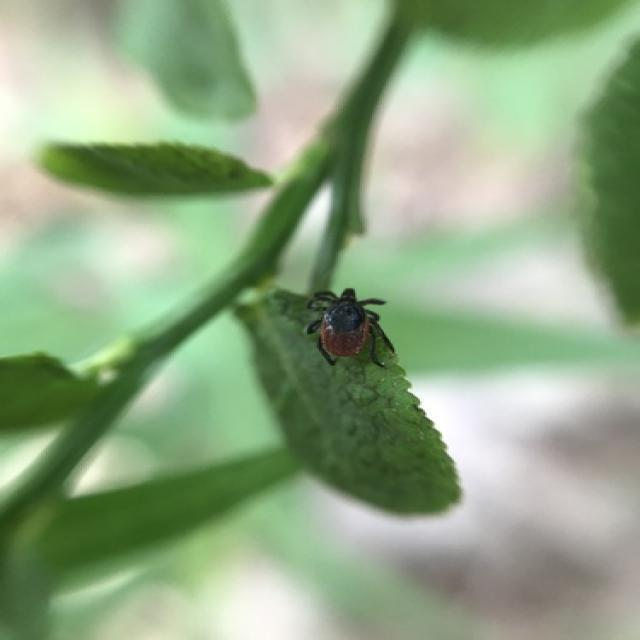Ixodes Ricinus-F: (300, 288, 396, 369)
